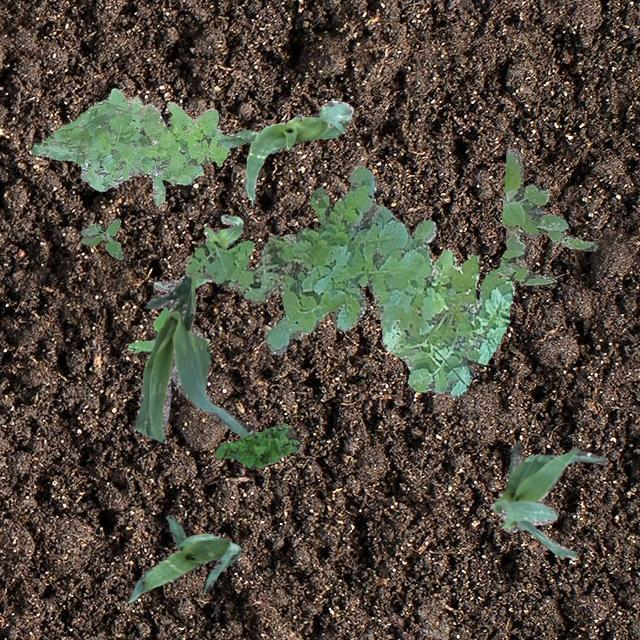crop: (132, 274, 254, 440), (216, 100, 352, 204), (490, 444, 606, 556), (128, 514, 240, 602), (152, 212, 242, 290)
weed: (184, 164, 514, 398), (30, 86, 228, 205), (496, 147, 596, 286), (214, 422, 300, 468), (126, 306, 208, 352), (80, 216, 122, 258)
